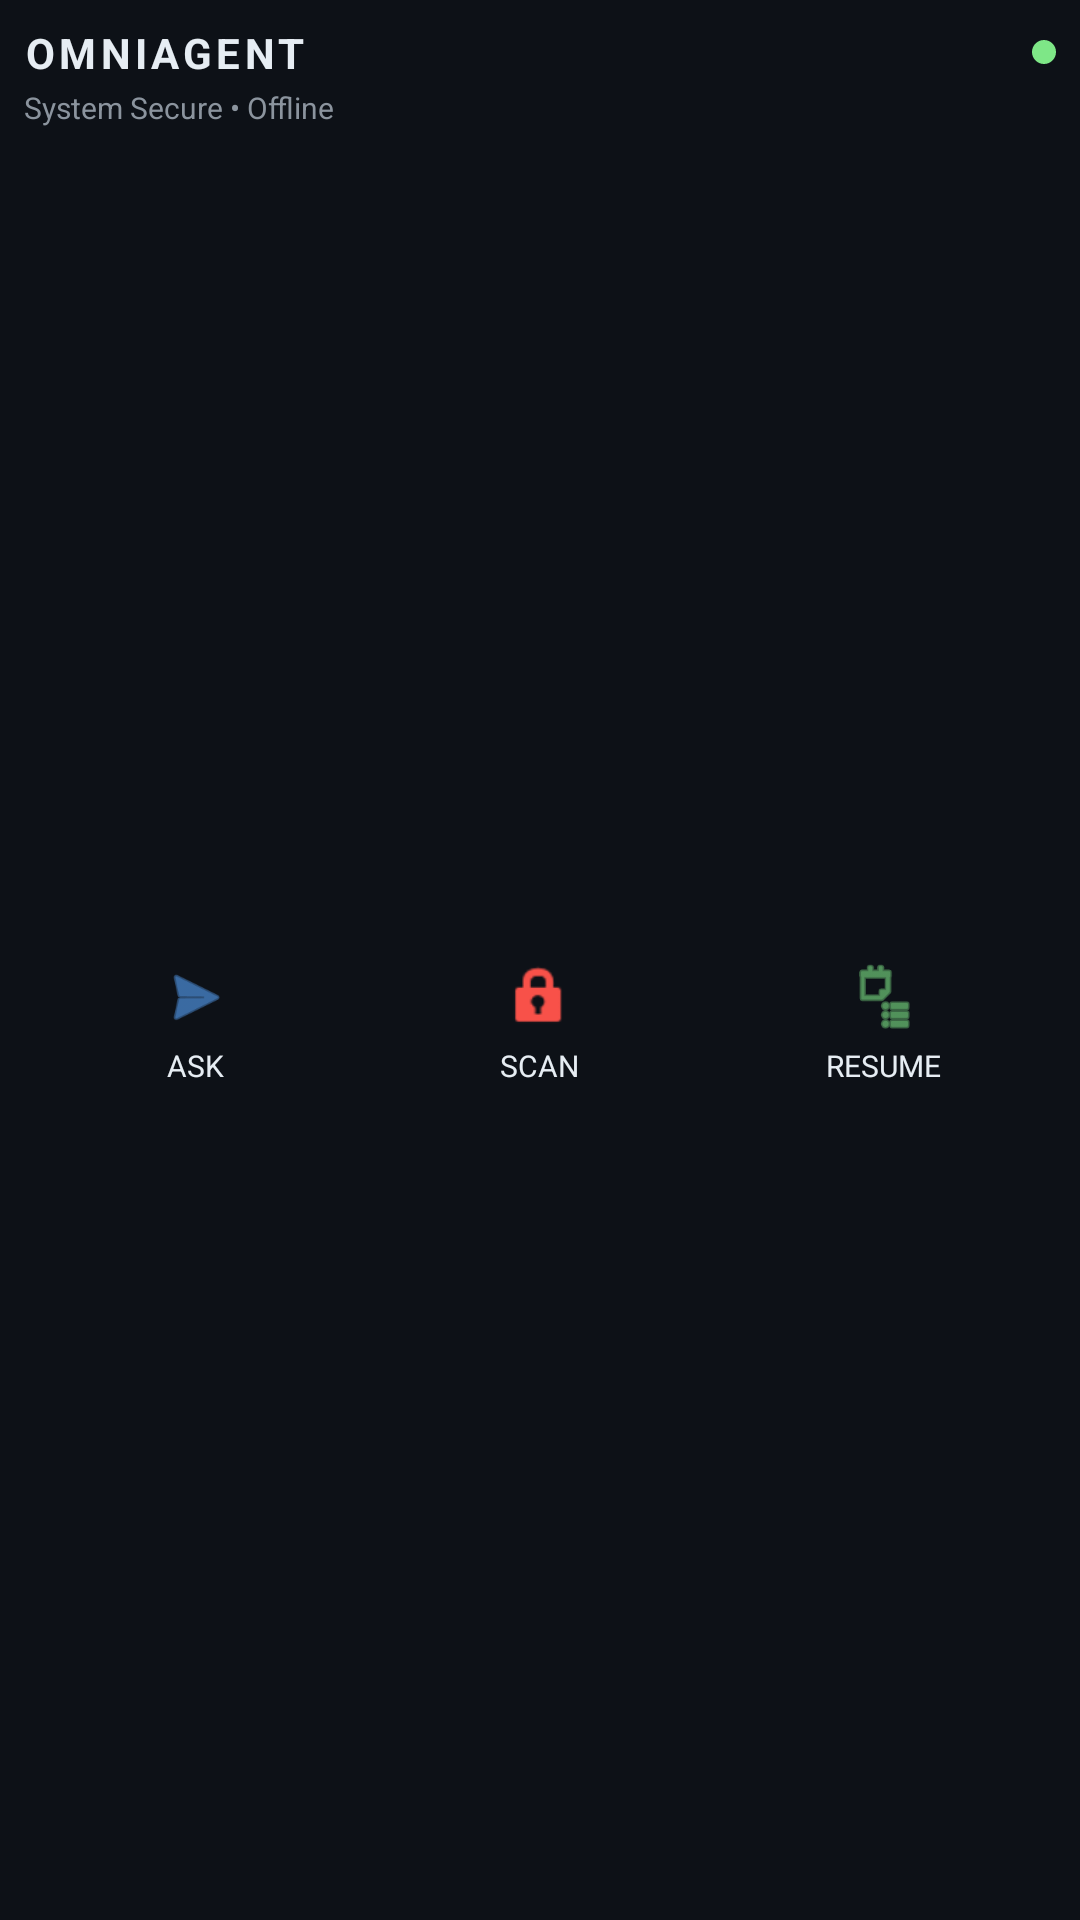

Icon click points for this 1080px×1920px phone screenshot, format (x=x, y=y):
agenda: (x=884, y=997)
lock idle: (x=538, y=994)
send: (x=197, y=997)
